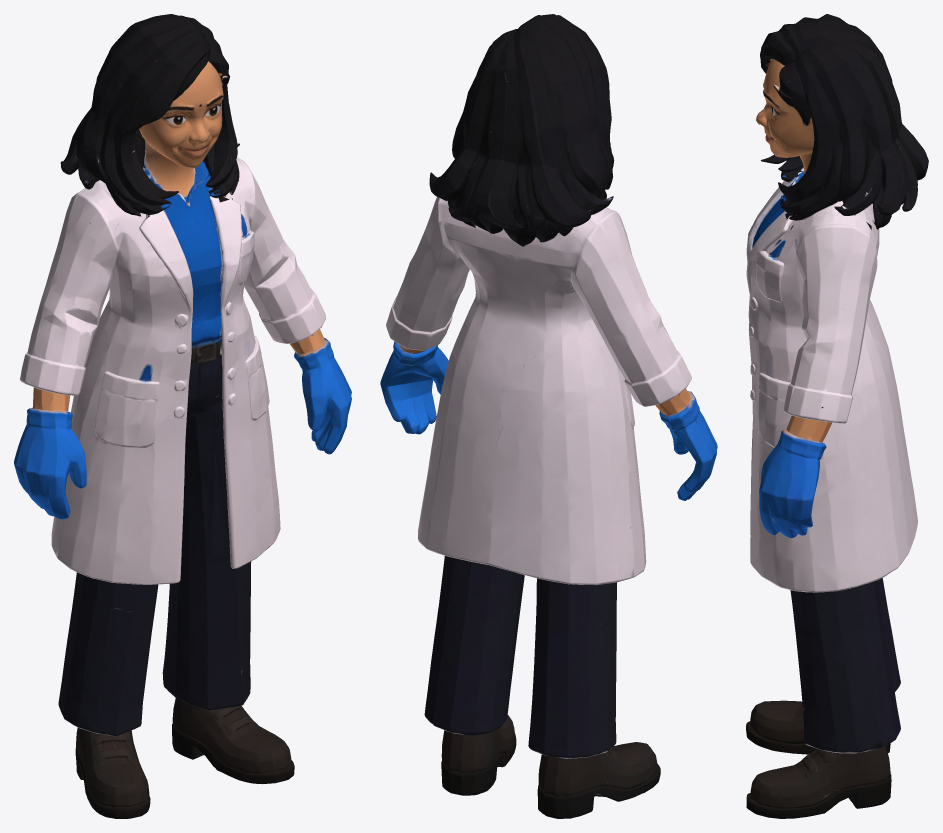
Rendered from lin.glb.
3 views of the same model, side by side, from view 1: azimuth 30°, elevation 25°; view 2: azimuth 150°, elevation 25°; view 3: azimuth 270°, elevation 25° (orthographic).
Size of the model in its own units: 0.8668 by 1.9 by 0.4186.
1 material, 1 textured.
